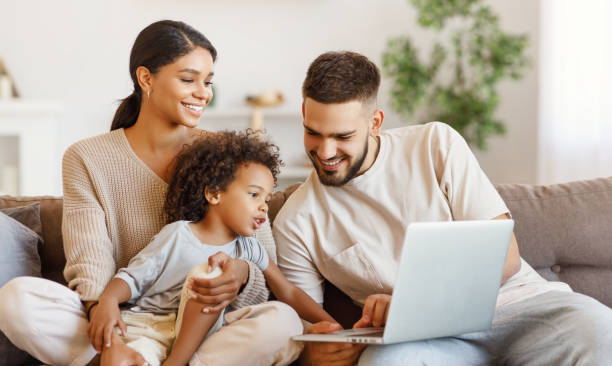without mask: (295, 83, 387, 191), (207, 152, 284, 240), (141, 41, 218, 129)
